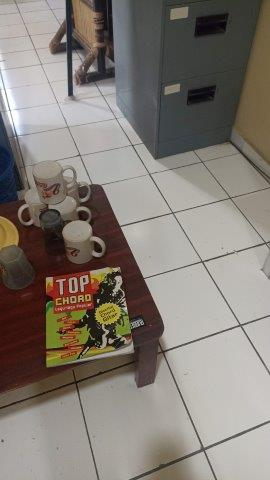kertas: (46, 266, 136, 371)
